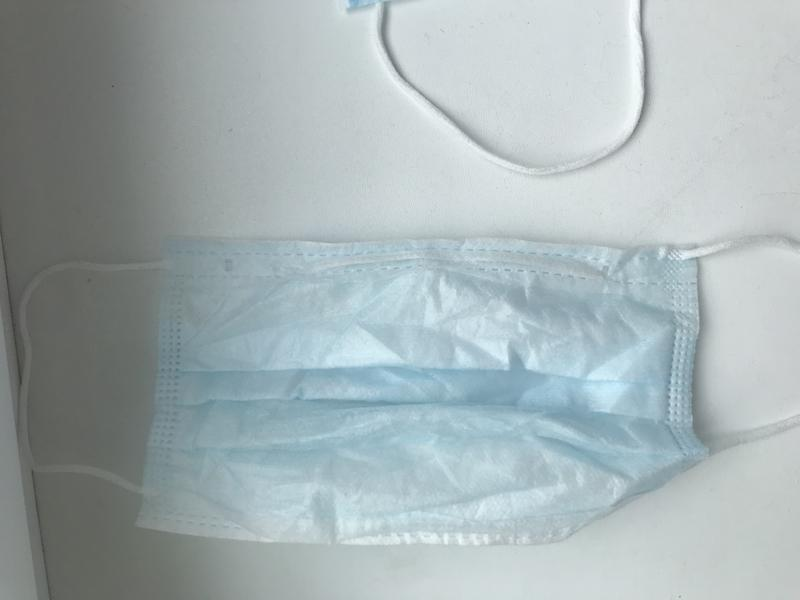medical_mask: (16, 229, 800, 546)
